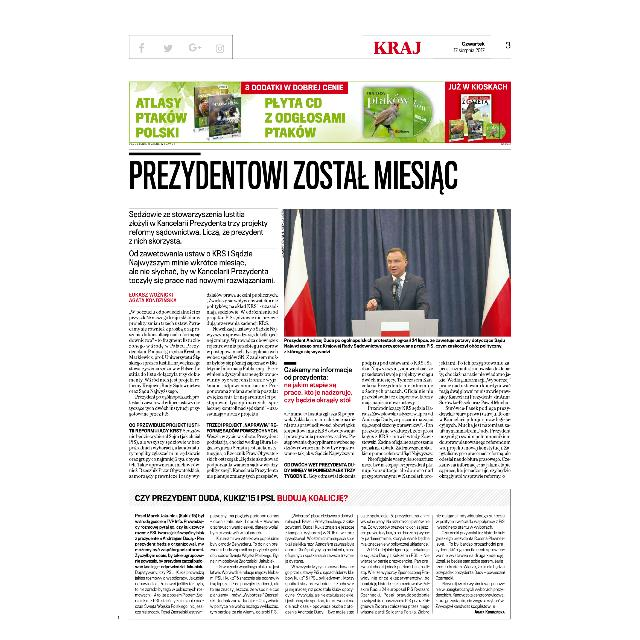article: (128, 152, 520, 482), (127, 487, 513, 623)
